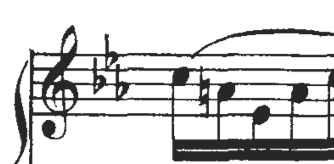flat: (85, 55, 109, 98), (113, 62, 133, 107), (100, 31, 121, 71)
treble_clef: (33, 19, 83, 144)
